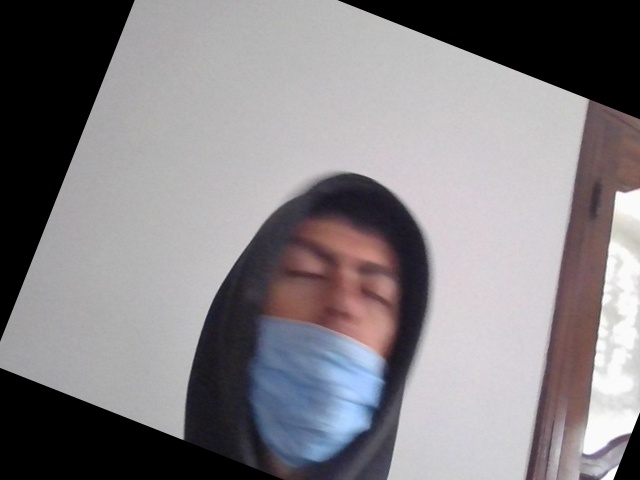mask_weared_incorrect: (242, 212, 403, 462)
